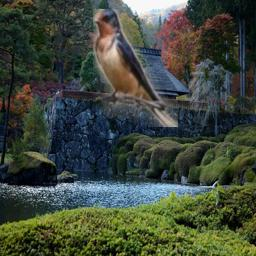Swallow: (93, 9, 178, 127)
